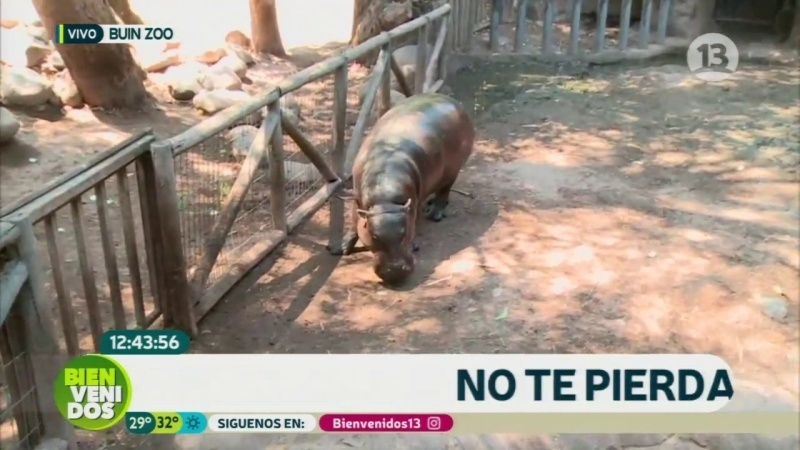hipopotamo: (332, 85, 480, 297)
